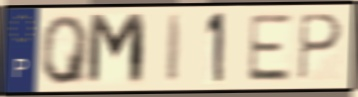1: (203, 10, 228, 88)
E: (245, 12, 294, 84)
I: (164, 12, 186, 86)
M: (85, 11, 149, 88)
P: (297, 11, 345, 83)
Q: (40, 13, 93, 87)
